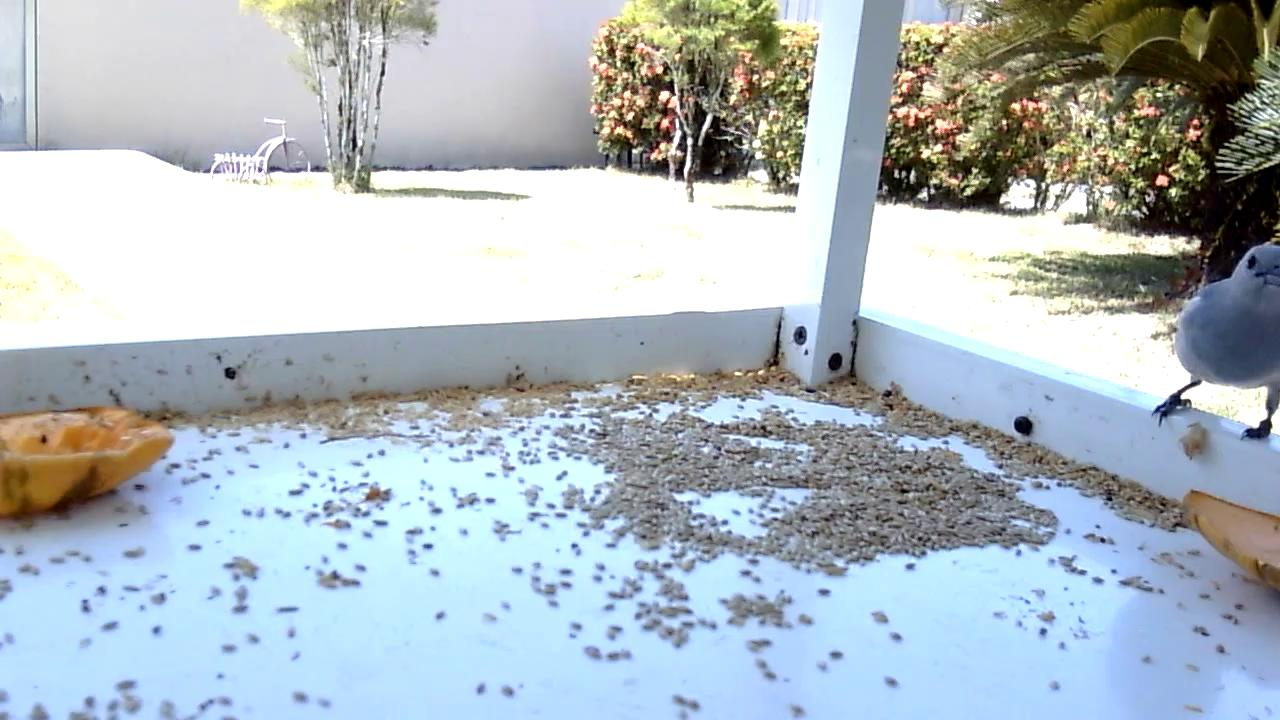sanhaco_da_amazonia: (1146, 245, 1280, 444)
